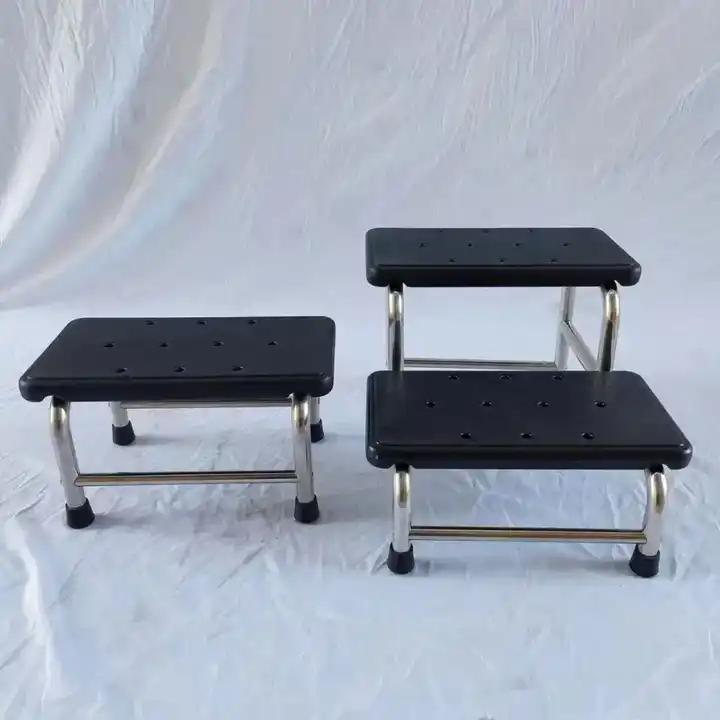stool: (356, 215, 696, 578), (15, 297, 343, 534)
